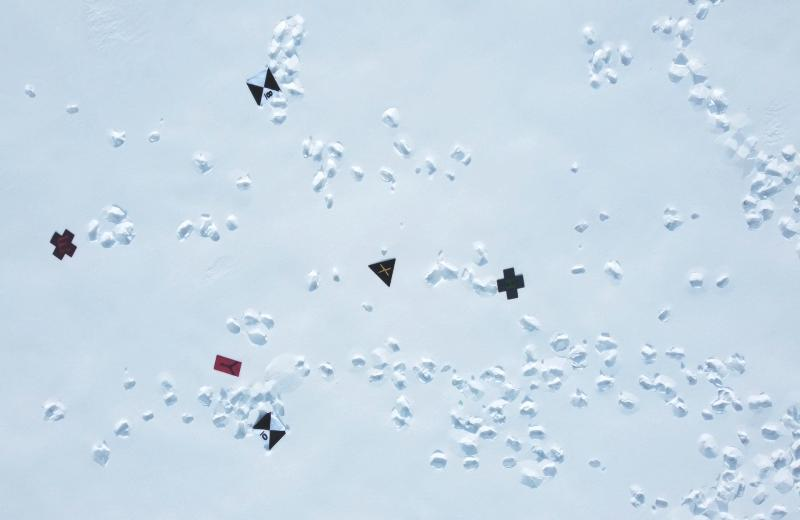Cross: (493, 263, 530, 301)
Rectangle: (43, 225, 80, 265), (210, 352, 245, 381)
Triangle: (366, 253, 401, 289)
